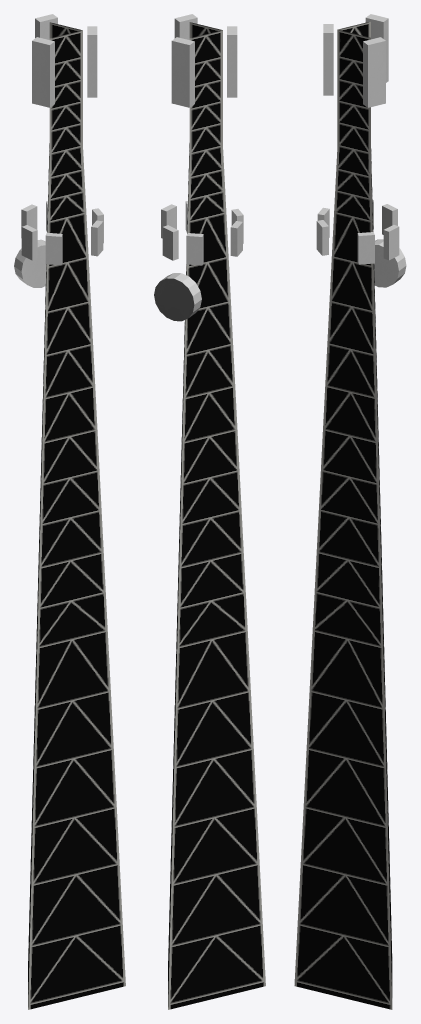
File: tower-radio-70m-cbj_LOD01.gltf
3 renders of one model, left to right at view 1: azimuth 30°, elevation 25°; view 2: azimuth 150°, elevation 25°; view 3: azimuth 330°, elevation 25°, orthographic.
Parts seen in each view (by area): view 1: post01; view 2: post01; view 3: post01.
Boxes of the visible parts, x1=… form: post01: x1=14, y1=14, x2=125, y2=1009; post01: x1=154, y1=14, x2=265, y2=1009; post01: x1=294, y1=14, x2=406, y2=1009.
Size of the model in its own units: 7.5 by 70.02 by 6.87.
